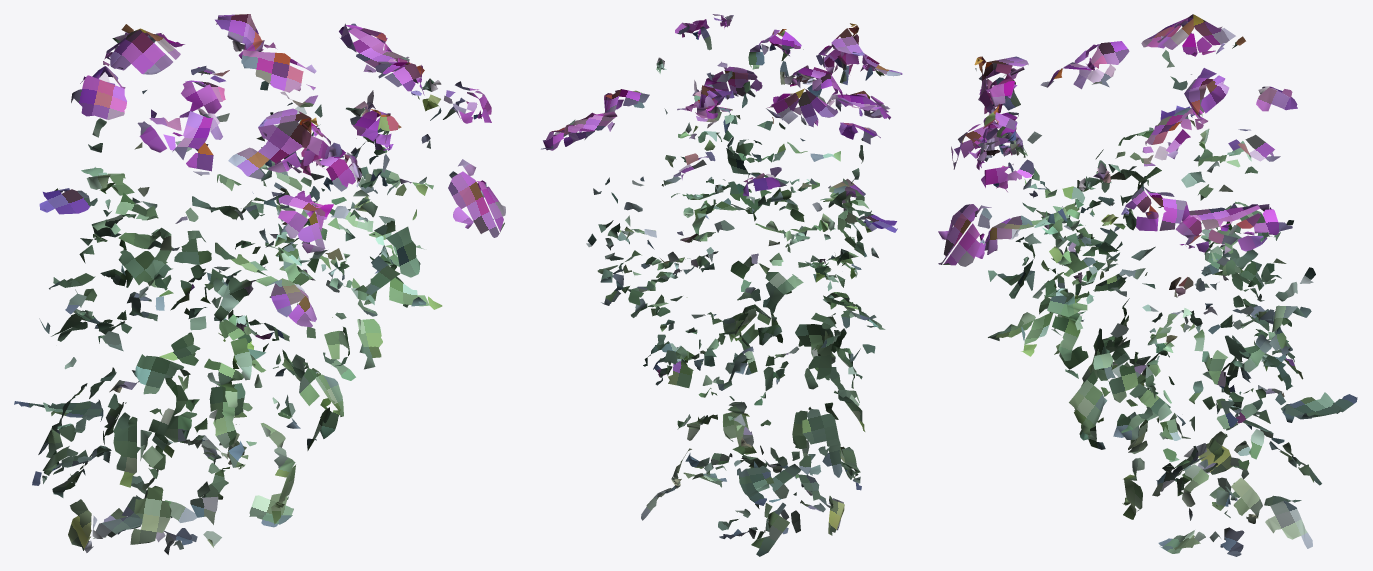
File: echinacea_dis.obj
The picture shows the model from 3 angles, left to right: view 1: azimuth 30°, elevation 25°; view 2: azimuth 150°, elevation 25°; view 3: azimuth 270°, elevation 25°; orthographic projection. The views are drawn at different scales.
Size of the model in its own units: 1.86 by 2.48 by 1.86.
1 material, 1 textured.
